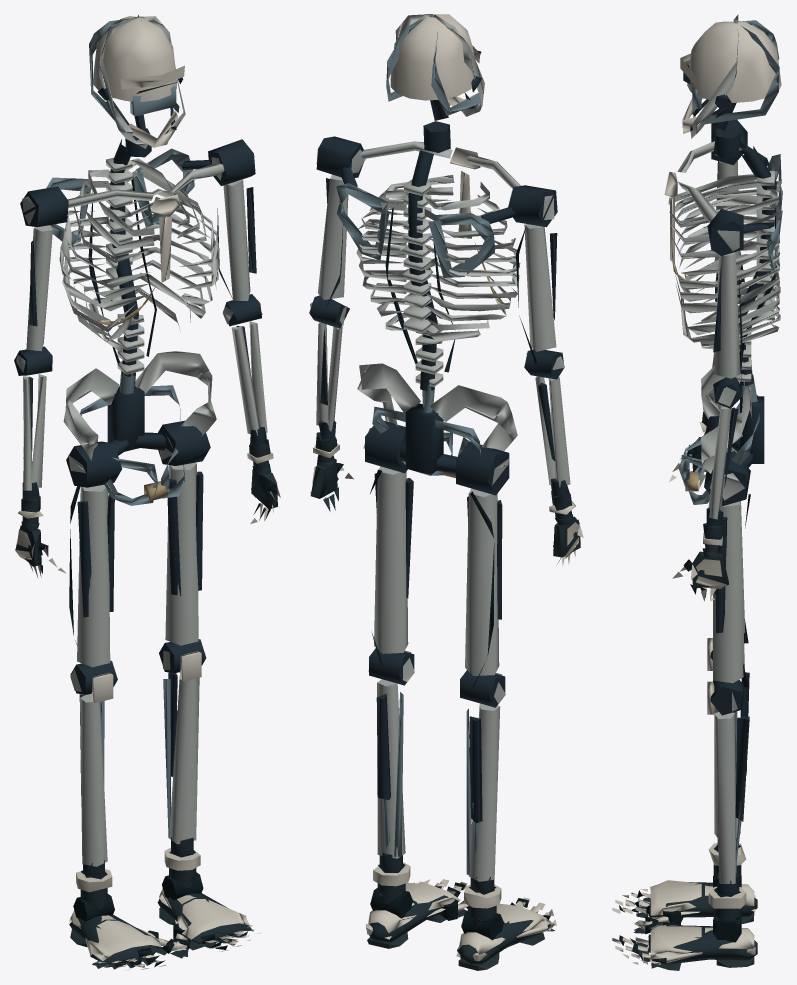
File: aurel03_assembly_sensor_d0_lod2.glb
3 views of the same model, side by side, from view 1: azimuth 30°, elevation 25°; view 2: azimuth 150°, elevation 25°; view 3: azimuth 270°, elevation 25° (orthographic). The views are drawn at different scales.
Parts seen in each view (by area): view 1: DISTANCE_SURFACE; view 2: DISTANCE_SURFACE; view 3: DISTANCE_SURFACE.
Boxes of the visible parts, box(x1,y1,x2,y2) form: DISTANCE_SURFACE: box(14, 15, 280, 970); DISTANCE_SURFACE: box(309, 14, 583, 970); DISTANCE_SURFACE: box(612, 14, 782, 970).
Size of the model in its own units: 0.518 by 1.8 by 0.3025.
